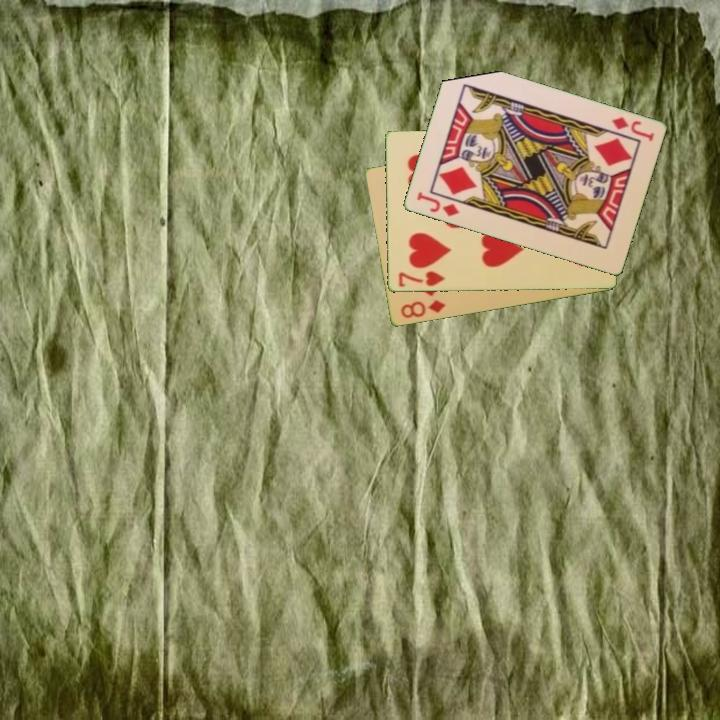7h: (395, 268, 447, 290)
8d: (397, 297, 448, 322)
Jd: (413, 188, 462, 220), (608, 113, 657, 144)
